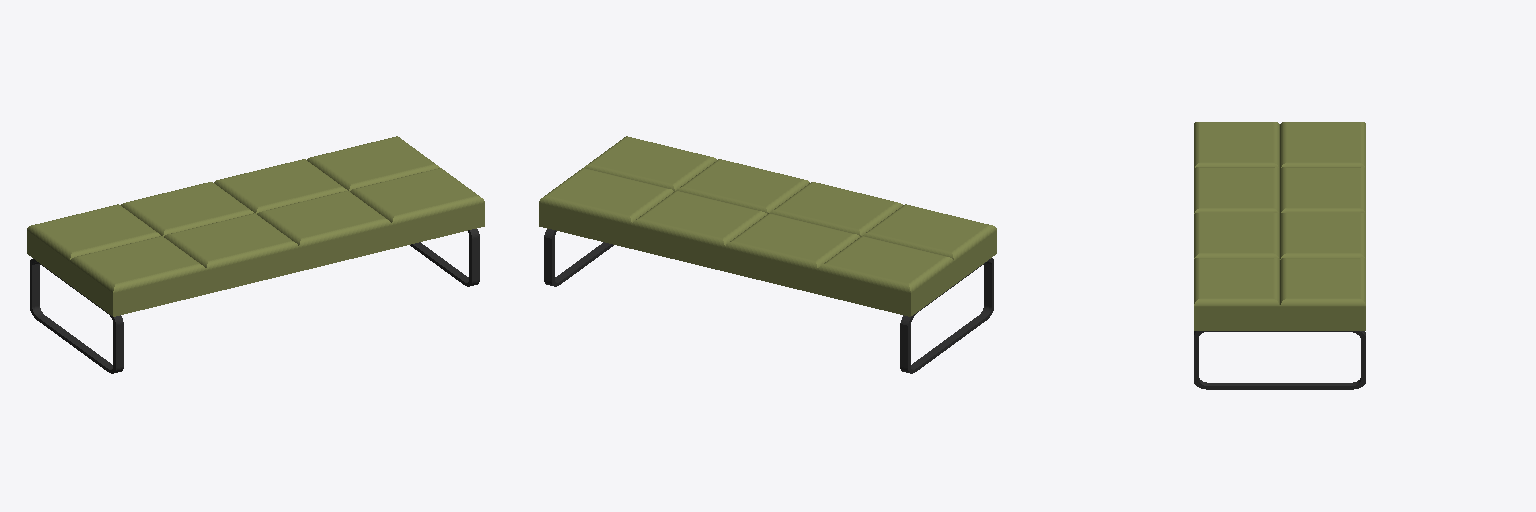
File: silla_piedra.obj
3 views of the same model, side by side, from view 1: azimuth 30°, elevation 25°; view 2: azimuth 150°, elevation 25°; view 3: azimuth 270°, elevation 25° (orthographic).
Parts seen in each view (by area): view 1: Group_001, Group_002, Group_003; view 2: Group_001, Group_002, Group_003; view 3: Group_001, Group_003.
Part boxes in pixels (bbox=[...]): Group_001: bbox=[27, 136, 484, 316]; Group_002: bbox=[30, 259, 123, 373]; Group_003: bbox=[410, 229, 479, 286]; Group_001: bbox=[539, 136, 996, 316]; Group_002: bbox=[900, 258, 993, 373]; Group_003: bbox=[544, 229, 613, 286]; Group_001: bbox=[1194, 122, 1365, 330]; Group_003: bbox=[1194, 331, 1365, 389].
Bounding box in the file's own units: 40.07 × 9.39 × 16.14.